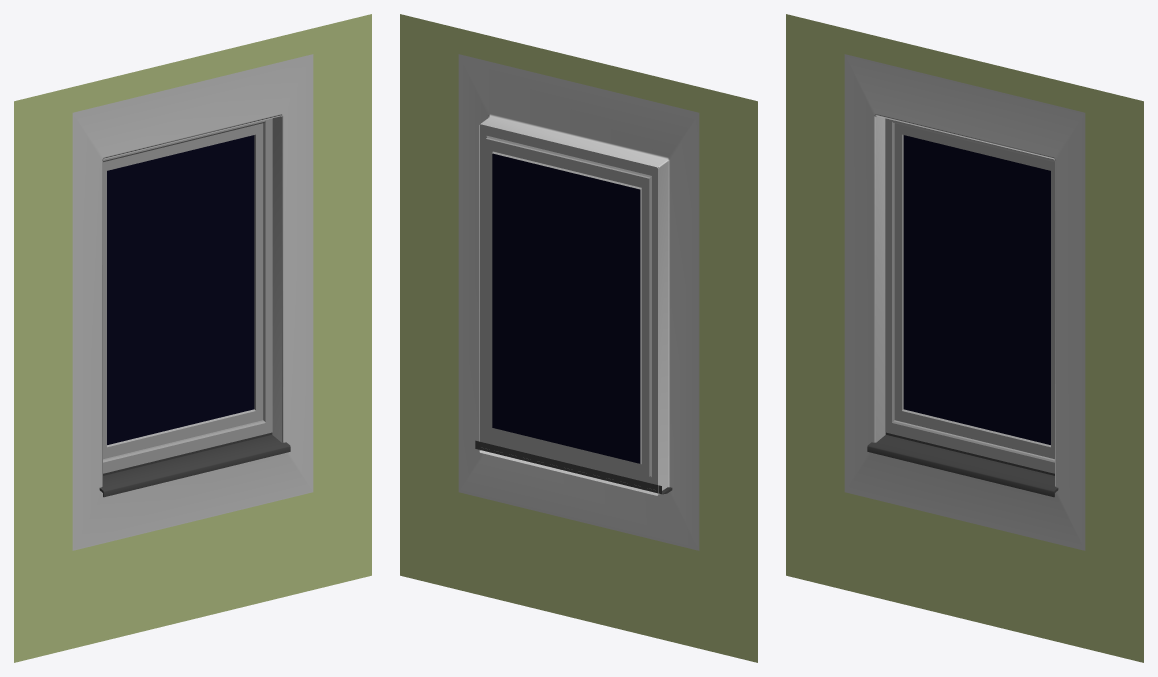
The model's file is Wall_Window02_2.0x3.0.obj.
The picture shows the model from 3 angles, left to right: view 1: azimuth 30°, elevation 25°; view 2: azimuth 150°, elevation 25°; view 3: azimuth 330°, elevation 25°; orthographic projection.
Parts seen in each view (by area): view 1: Wall_Window02_2.0x3.0; view 2: Wall_Window02_2.0x3.0; view 3: Wall_Window02_2.0x3.0.
Boxes of the visible parts, x1,y1,x2,y2 form: Wall_Window02_2.0x3.0: (14, 14, 371, 662); Wall_Window02_2.0x3.0: (400, 14, 757, 662); Wall_Window02_2.0x3.0: (786, 14, 1143, 662).
Bounding box in the file's own units: 2 × 3 × 0.1624.
